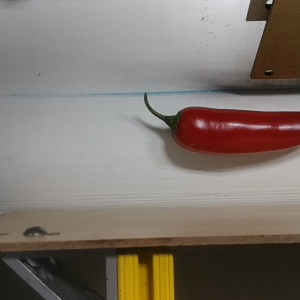Cut Point: (161, 105, 196, 151)
